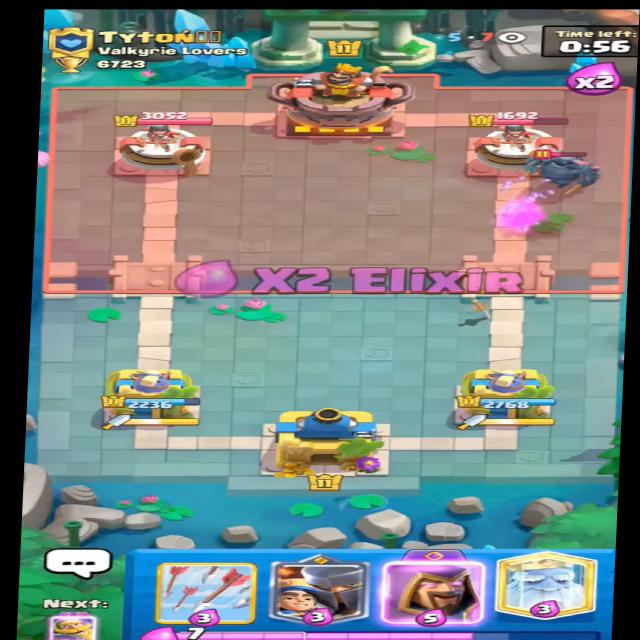pekka: (516, 137, 606, 190)
